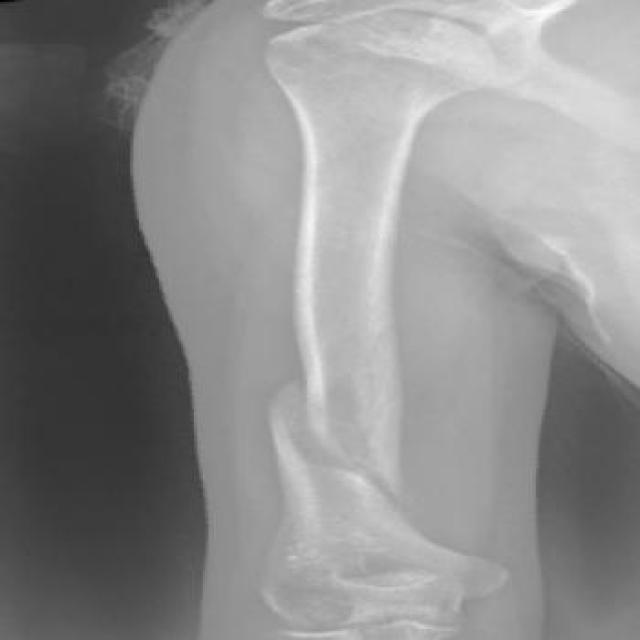Fracture: (239, 377, 450, 513)
